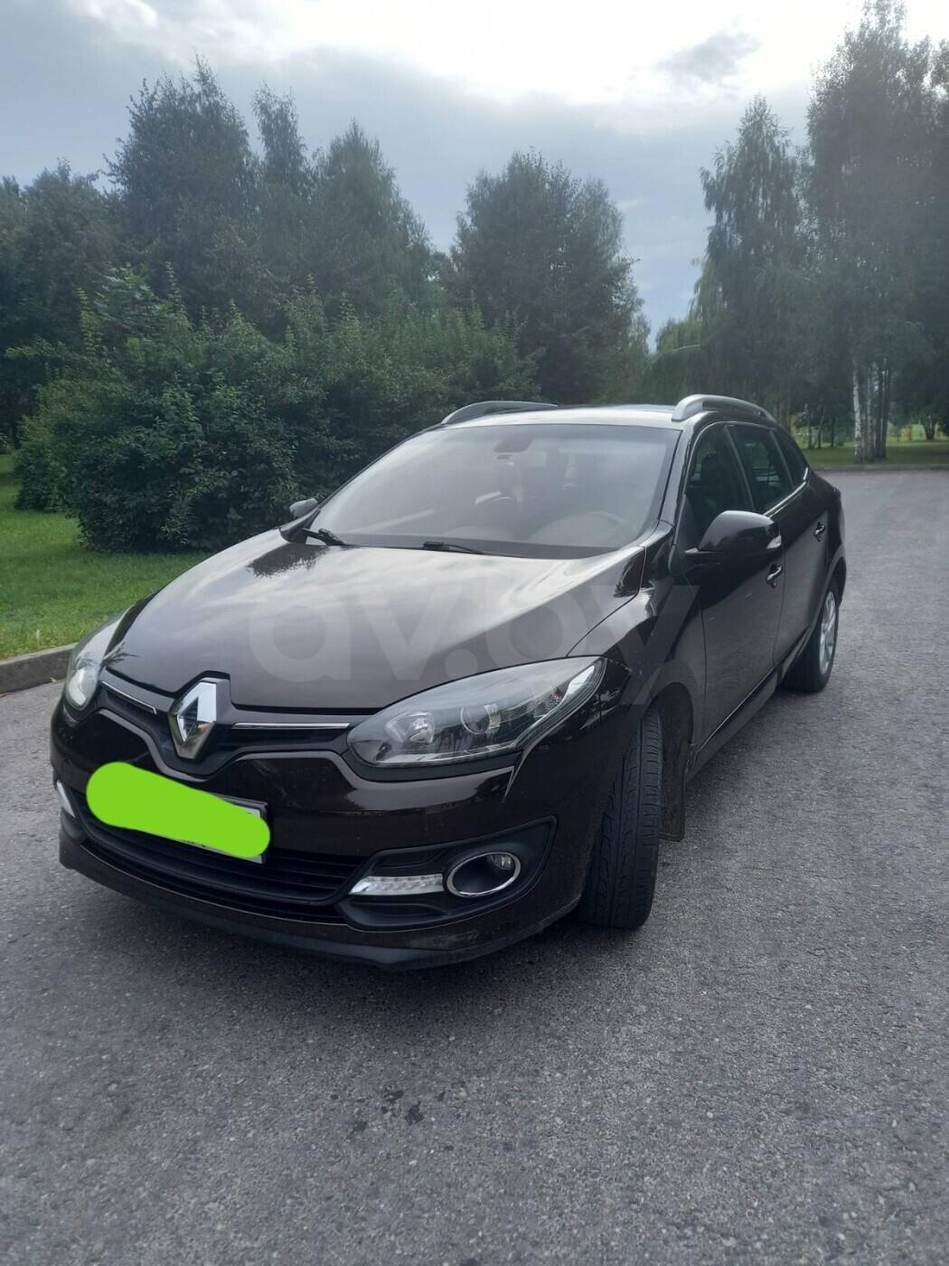Megane_2014-2016: (47, 389, 862, 973)
